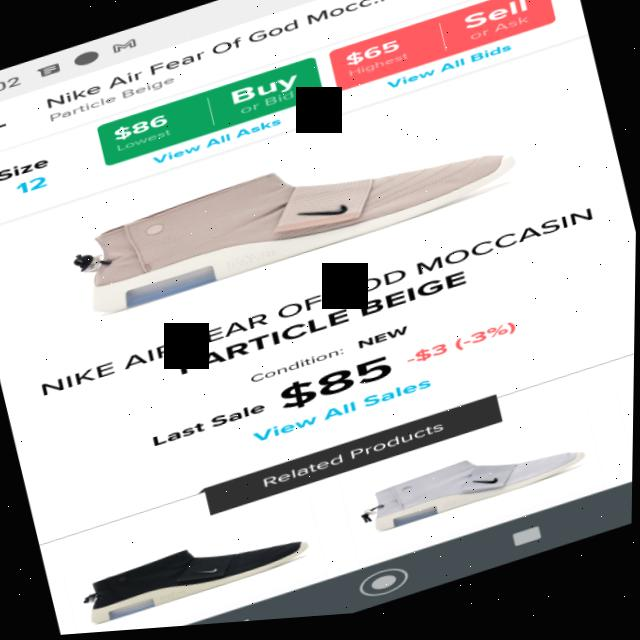shoes: (22, 85, 547, 353), (344, 414, 606, 564), (67, 495, 335, 636)
